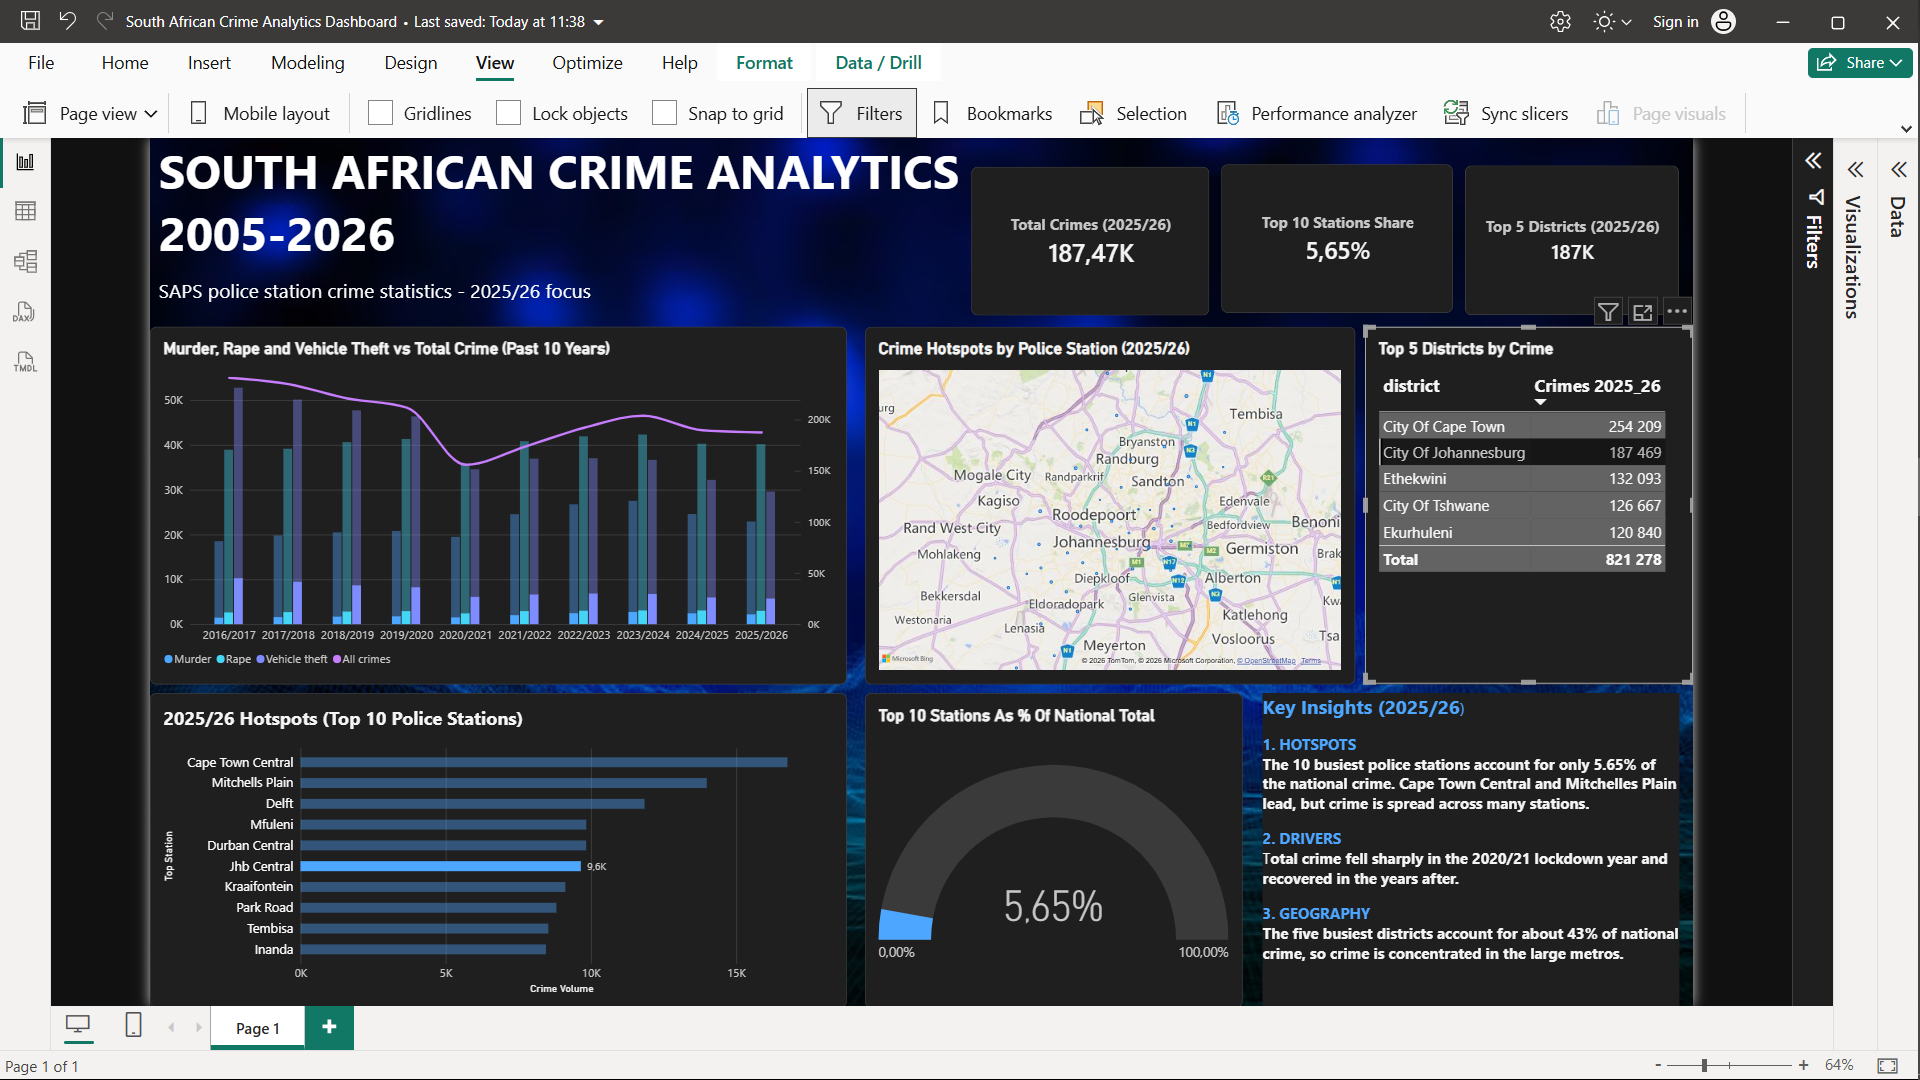

Layout of this report page (visuals, bound fields, positions):
{"tool":"powerbi","page":{"name":"Page 1","canvas":[1920,1080],"ordinal":0},"visuals":[{"type":"textbox","box":[10.3,0,1321.4,253.2],"z":0},{"type":"group","id":"g1","title":"Group 1","box":[1022,36,296,186],"z":1000},{"type":"clusteredBarChart","title":"2025/26 Hotspots (Top 10 Police Stations)","fields":{"Category":["sapacr-2005-2026-v1 5.station"],"Y":["_Measures.Crimes 2025_26"]},"box":[0,689.5,866.6,391.1],"z":2000},{"type":"cardVisual","fields":{"Data":["_Measures.Crimes 2025_26"]},"box":[1022,36,296.4,185.2],"z":3000,"group":"g1"},{"type":"gauge","title":"Top 10 Stations As % Of National Total","fields":{"Y":["_Measures.Top 10 % Share"]},"box":[889.2,689.5,469.3,391.1],"z":3000},{"type":"lineClusteredColumnComboChart","title":"Murder, Rape and Vehicle Theft vs Total Crime (Past 10 Years)","fields":{"Category":["sapacr-2005-2026-v1 5.year"],"Y":["Sum(sapacr-2005-2026-v1 5.murder)","Sum(sapacr-2005-2026-v1 5.rape)","Sum(sapacr-2005-2026-v1 5.vehicle_theft)"],"Y2":["_Measures.Total Crimes"]},"box":[0,234.6,866.6,444.6],"z":4000},{"type":"map","title":"Crime Hotspots by Police Station (2025/26)","fields":{"Category":["sapacr-2005-2026-v1 5.station"],"Size":["_Measures.Crimes 2025_26"],"X":["Avg(sapacr-2005-2026-v1 5.longitude)"],"Y":["Avg(sapacr-2005-2026-v1 5.latitude)"]},"box":[889.2,234.6,609.3,444.6],"z":5000},{"type":"tableEx","title":"Top 5 Districts by Crime","fields":{"Values":["sapacr-2005-2026-v1 5.district","_Measures.Crimes 2025_26"]},"box":[1510.8,234.6,409.6,444.6],"z":6000},{"type":"cardVisual","fields":{"Data":["_Measures.Top 10 % Share"]},"box":[1332,32,288.2,185.2],"z":7000},{"type":"textbox","box":[1384,690,518,390],"z":8000},{"type":"cardVisual","fields":{"Data":["_Measures.Top 5 Districts"]},"box":[1636,34,266,186],"z":9000}]}

Visuals, with their boxes on the page's 1920x1080 design canvas (x1, y1, x2, y2). These are canvas units, not pixel positions in the 1920x1080 screenshot, which may show the page scaled, cropped or inside an application window:
textbox: x1=10, y1=0, x2=1332, y2=253
"Group 1" group: x1=1022, y1=36, x2=1318, y2=222
"2025/26 Hotspots (Top 10 Police Stations)" clusteredBarChart: x1=0, y1=690, x2=867, y2=1081
cardVisual - _Measures.Crimes 2025_26: x1=1022, y1=36, x2=1318, y2=221
"Top 10 Stations As % Of National Total" gauge: x1=889, y1=690, x2=1358, y2=1081
"Murder, Rape and Vehicle Theft vs Total Crime (Past 10 Years)" lineClusteredColumnComboChart: x1=0, y1=235, x2=867, y2=679
"Crime Hotspots by Police Station (2025/26)" map: x1=889, y1=235, x2=1498, y2=679
"Top 5 Districts by Crime" tableEx: x1=1511, y1=235, x2=1920, y2=679
cardVisual - _Measures.Top 10 % Share: x1=1332, y1=32, x2=1620, y2=217
textbox: x1=1384, y1=690, x2=1902, y2=1080
cardVisual - _Measures.Top 5 Districts: x1=1636, y1=34, x2=1902, y2=220
